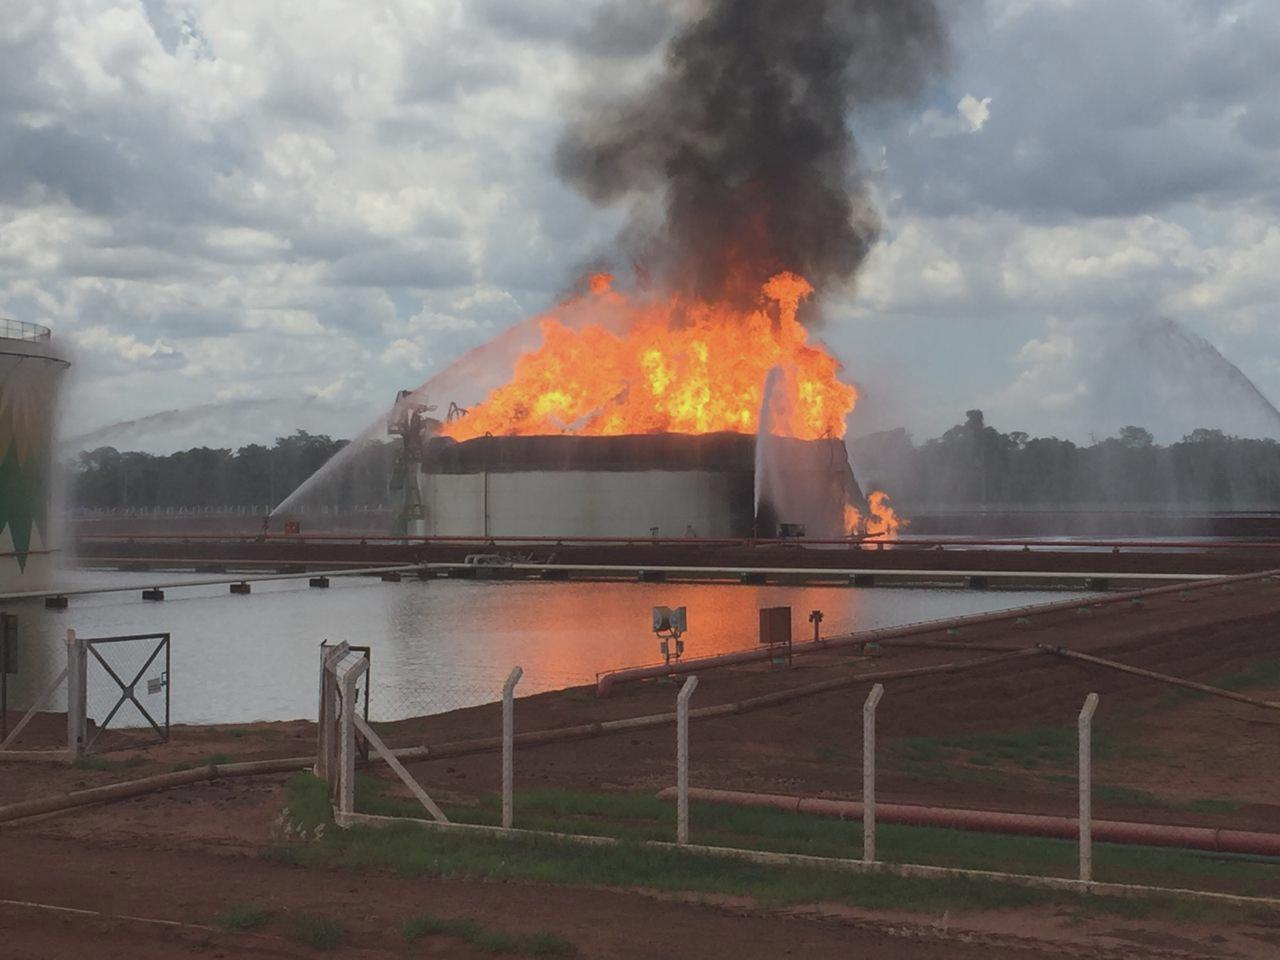Fire: (447, 281, 844, 440), (840, 497, 897, 543)
